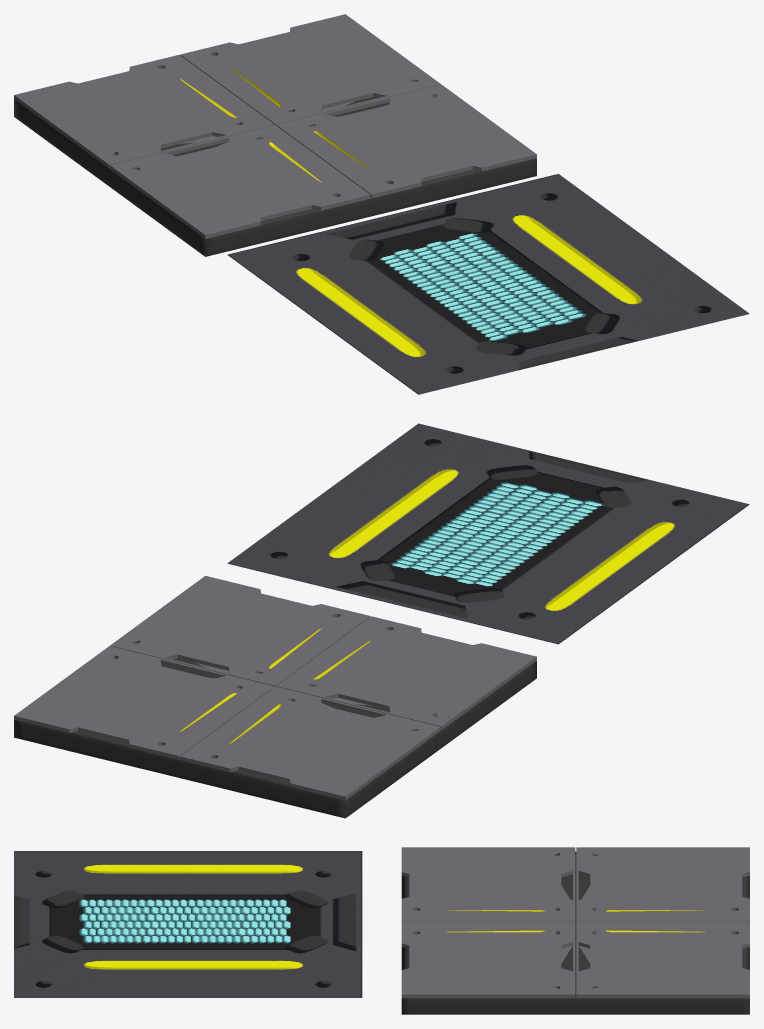
File: SciFiFloor.fbx
3 renders of one model, top to bottom at view 1: azimuth 30°, elevation 25°; view 2: azimuth 150°, elevation 25°; view 3: azimuth 270°, elevation 25°, orthographic. The views are drawn at different scales.
Visible parts, largest first — view 1: doujii_Lesson4_Exercise10_BottomPlate, doujii_Lesson4_Exercise10_LowPoly; view 2: doujii_Lesson4_Exercise10_BottomPlate, doujii_Lesson4_Exercise10_LowPoly; view 3: doujii_Lesson4_Exercise10_BottomPlate, doujii_Lesson4_Exercise10_LowPoly.
Part boxes in pixels (x1,y1,x2,y2): doujii_Lesson4_Exercise10_BottomPlate: (14, 14, 536, 256); doujii_Lesson4_Exercise10_LowPoly: (227, 174, 749, 394); doujii_Lesson4_Exercise10_BottomPlate: (14, 576, 536, 818); doujii_Lesson4_Exercise10_LowPoly: (227, 423, 749, 644); doujii_Lesson4_Exercise10_BottomPlate: (401, 847, 749, 1014); doujii_Lesson4_Exercise10_LowPoly: (14, 851, 362, 997).
Size of the model in its own units: 100 by 6.28 by 211.
